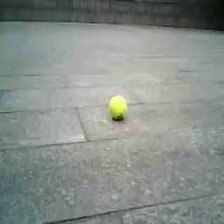tennis: (109, 96, 126, 119)
